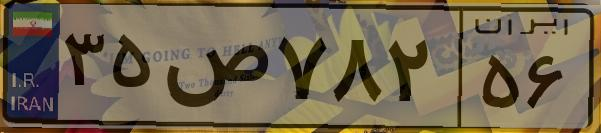2: (385, 28, 445, 110)
3: (57, 26, 110, 100)
5: (475, 38, 525, 113), (110, 28, 158, 98)
6: (525, 38, 570, 115)
7: (270, 28, 330, 110)
8: (330, 28, 385, 110)
ص: (158, 20, 270, 120)
